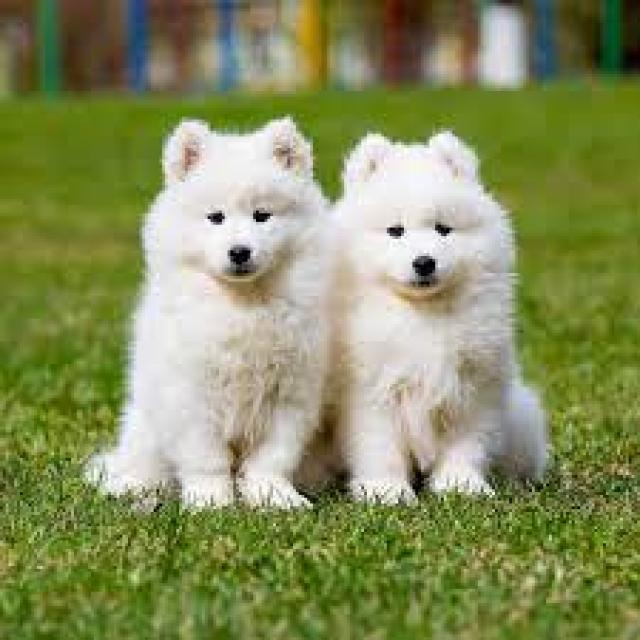dogs: (81, 117, 333, 516), (324, 131, 551, 504)
